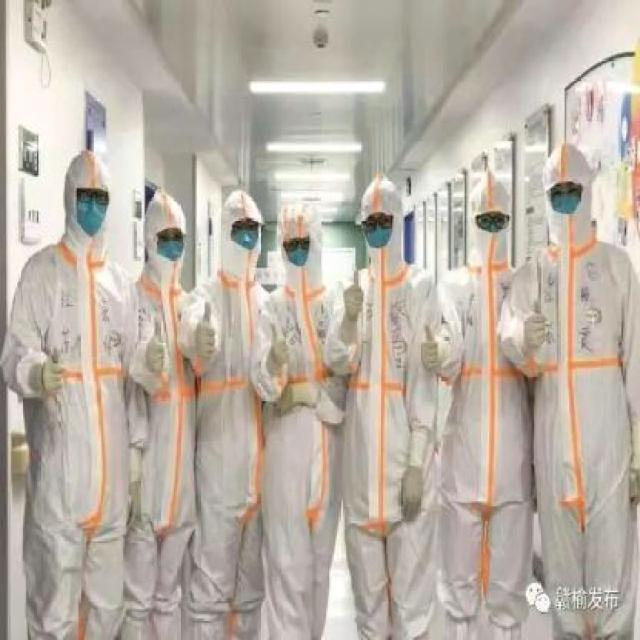face_mask: (68, 186, 110, 232), (360, 204, 402, 244), (549, 177, 583, 225), (226, 212, 262, 255), (282, 231, 316, 271), (155, 228, 188, 263)
glasses: (70, 185, 115, 207), (360, 212, 397, 235), (473, 212, 515, 230), (283, 235, 312, 253)
hand_glove: (144, 314, 168, 378), (264, 322, 294, 371), (519, 300, 546, 352), (398, 466, 424, 520), (196, 300, 218, 362), (420, 320, 442, 378), (42, 343, 66, 394), (345, 268, 366, 323)
person: (538, 135, 640, 640), (28, 151, 128, 640), (338, 172, 440, 640), (449, 177, 542, 640), (129, 178, 211, 640), (265, 203, 349, 640), (199, 184, 272, 640)
